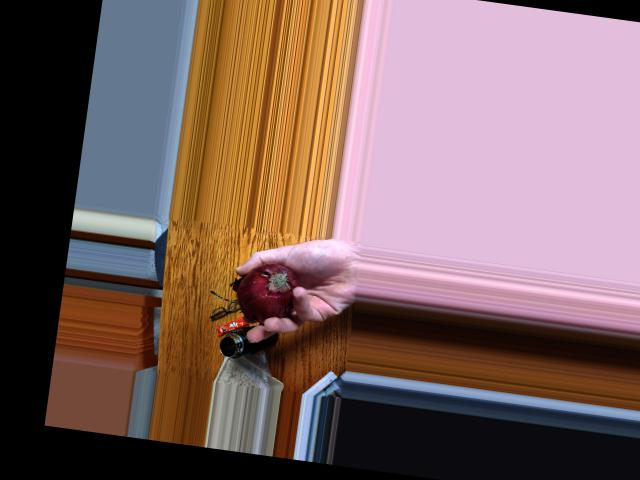onion: (234, 261, 293, 323)
